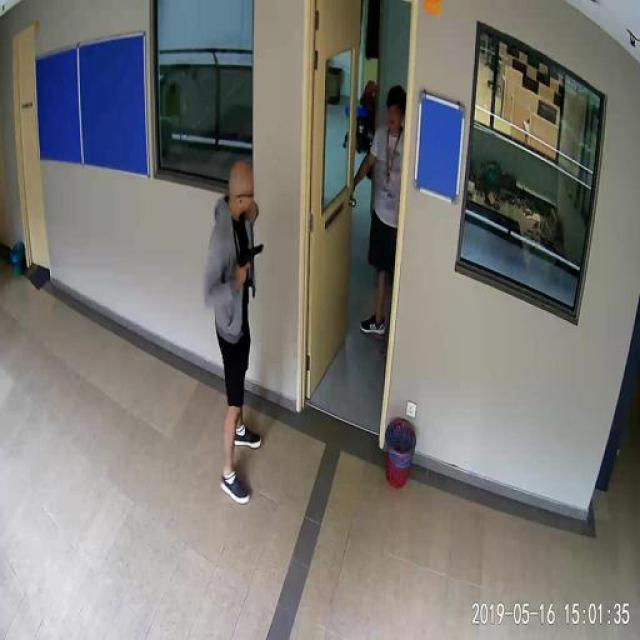weapon: (234, 242, 266, 285)
